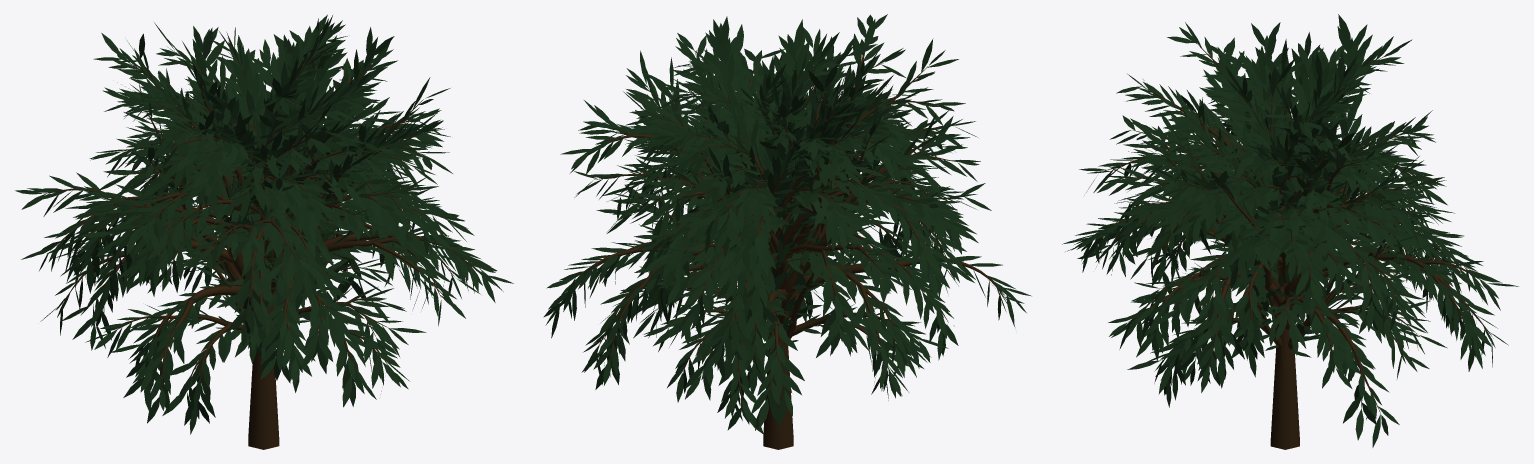
File: LowPolyTree2Leaves.fbx
3 renders of one model, left to right at view 1: azimuth 30°, elevation 25°; view 2: azimuth 150°, elevation 25°; view 3: azimuth 270°, elevation 25°, orthographic. The views are drawn at different scales.
Visible parts, largest first — view 1: tree; view 2: tree; view 3: tree.
Boxes of the visible parts, x1,y1,x2,y2 form: tree: (15, 14, 513, 449); tree: (543, 14, 1031, 449); tree: (1062, 14, 1518, 449).
Bounding box in the file's own units: 490 × 486 × 517.
